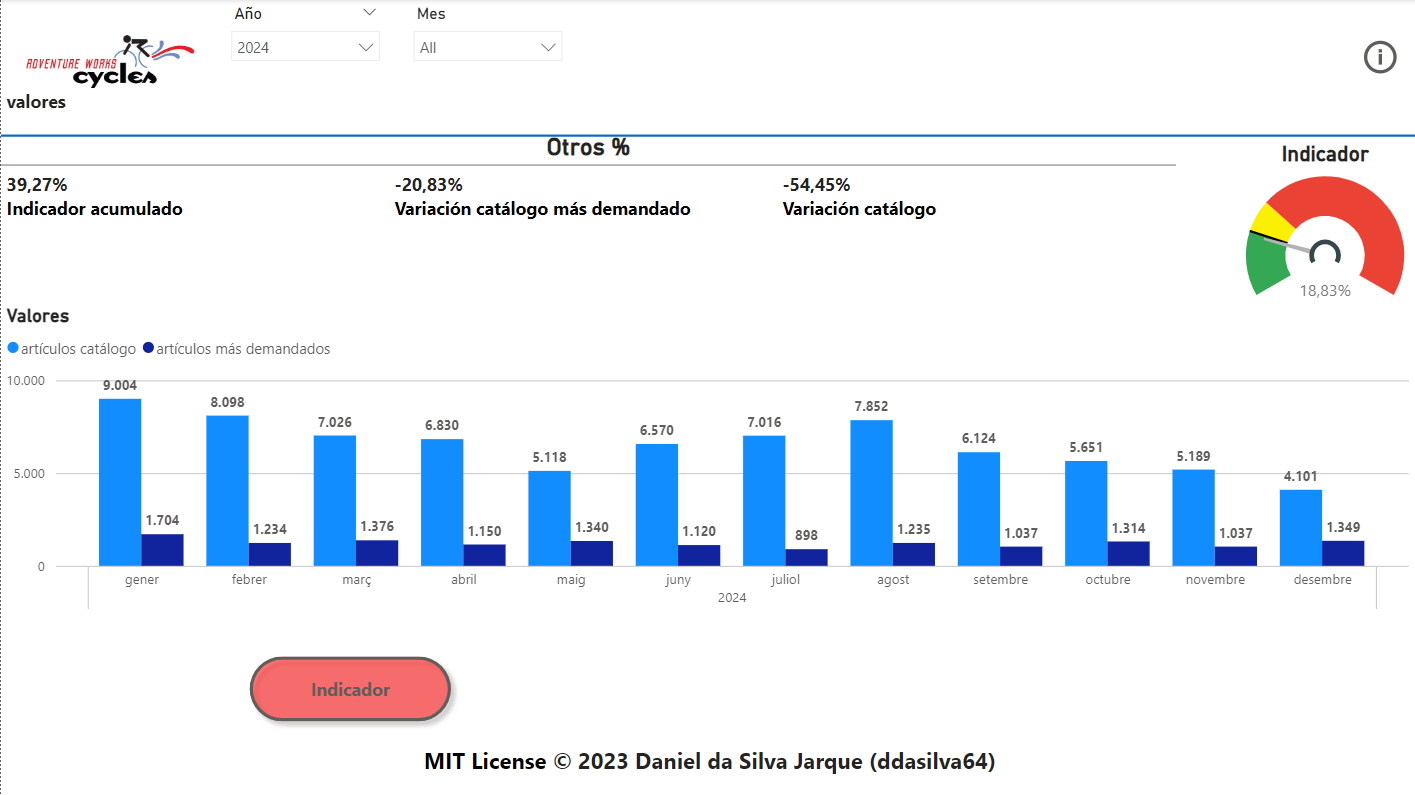

The dashboard page shown, as its layout file describes it:
{"tool":"powerbi","page":{"name":"Porcentajes","canvas":[1280,720],"ordinal":0},"visuals":[{"type":"image","title":"imgLogo","box":[0,0,198,119],"z":0,"group":"g5"},{"type":"shape","title":"shpLinia","box":[0,118,1280,12],"z":0,"group":"g7"},{"type":"eaTachometer6616D82ED23A4C048E1D3CD4604742ED","title":"Indicador","fields":{"EndValue":["Metrics.LTV Max"],"Range2StartValue":["Metrics.LTV rang 1"],"Range3StartValue":["Metrics.LTV rang 2"],"Range4StartValue":["Metrics.LTV rang 3"],"TargetValue":["Metrics.LTV target"],"Y":["Metrics.Media Indicador"]},"box":[1114.1,129,166,161.6],"z":0,"group":"g8"},{"type":"group","id":"g1","title":"Bottons","box":[216,585.6,847.2,78.1],"z":0,"group":"g4"},{"type":"group","id":"g2","title":"Foot","box":[0,666,1280,52.9],"z":0},{"type":"textbox","title":"txtLlicesncia","box":[0,666,1280,52.9],"z":0,"group":"g2"},{"type":"group","id":"g3","title":"Filtros","box":[362.5,0,154.5,65.1],"z":1000,"group":"g7"},{"type":"group","id":"g4","title":"Body","box":[0,121,1280.1,542.7],"z":1000},{"type":"multiRowCard","title":"Otros %","fields":{"Values":["Metrics.Media indicadox","Metrics.Variación catálogo más demandado","Metrics.Variación catálogo"]},"box":[0,121,1062.5,97],"z":1000,"group":"g8"},{"type":"actionButton","title":"btnGoToValores","box":[864,585.7,199.2,78],"z":1000,"group":"g1"},{"type":"group","id":"g5","title":"Identificacion","box":[0,0,198,119],"z":2000,"group":"g7"},{"type":"group","id":"g6","title":"Filtros","box":[197.5,0,154.5,65.1],"z":2000},{"type":"slicer","fields":{"Values":["DimDates.Exercise"]},"box":[197.5,0,154.5,65.1],"z":2001,"group":"g6"},{"type":"slicer","fields":{"Values":["DimDates.ShortMonth"]},"box":[362.5,0,154.5,65.1],"z":2001,"group":"g3"},{"type":"group","id":"g7","title":"Head","box":[0,0,1280.5,130.1],"z":3000},{"type":"textbox","title":"txtIndicador","box":[0,75.6,197.9,32],"z":3000,"group":"g5"},{"type":"actionButton","box":[1227,32.5,41.8,39.5],"z":4000},{"type":"group","id":"g8","title":"Fix","box":[0,121,1280.1,169.6],"z":7000,"group":"g4"},{"type":"clusteredColumnChart","title":"Indicador","fields":{"Y":["Sum(CSV_HechosAgregado.Indicador)"],"Category":["CSV_HechosAgregado.fecha.Variation.Jerarquia de dates.Any","CSV_HechosAgregado.fecha.Variation.Jerarquia de dates.Mes"]},"box":[0,275.6,1280,289.7],"z":8000,"group":"g4"}]}

Visuals, with their boxes in screenshot pixels (x1, y1, x2, y2), scaled from the page's 1280x720 canvas onto the 1415x795 screenshot:
"imgLogo" image: left=0, top=0, right=219, bottom=131
"shpLinia" shape: left=0, top=130, right=1414, bottom=144
"Indicador" eaTachometer6616D82ED23A4C048E1D3CD4604742ED: left=1232, top=142, right=1414, bottom=321
"Bottons" group: left=239, top=647, right=1175, bottom=733
"Foot" group: left=0, top=735, right=1414, bottom=794
"txtLlicesncia" textbox: left=0, top=735, right=1414, bottom=794
"Filtros" group: left=401, top=0, right=572, bottom=72
"Body" group: left=0, top=134, right=1414, bottom=733
"Otros %" multiRowCard: left=0, top=134, right=1175, bottom=241
"btnGoToValores" actionButton: left=955, top=647, right=1175, bottom=733
"Identificacion" group: left=0, top=0, right=219, bottom=131
"Filtros" group: left=218, top=0, right=389, bottom=72
slicer - DimDates.Exercise: left=218, top=0, right=389, bottom=72
slicer - DimDates.ShortMonth: left=401, top=0, right=572, bottom=72
"Head" group: left=0, top=0, right=1414, bottom=144
"txtIndicador" textbox: left=0, top=83, right=219, bottom=119
actionButton: left=1356, top=36, right=1403, bottom=80
"Fix" group: left=0, top=134, right=1414, bottom=321
"Indicador" clusteredColumnChart: left=0, top=304, right=1414, bottom=624
